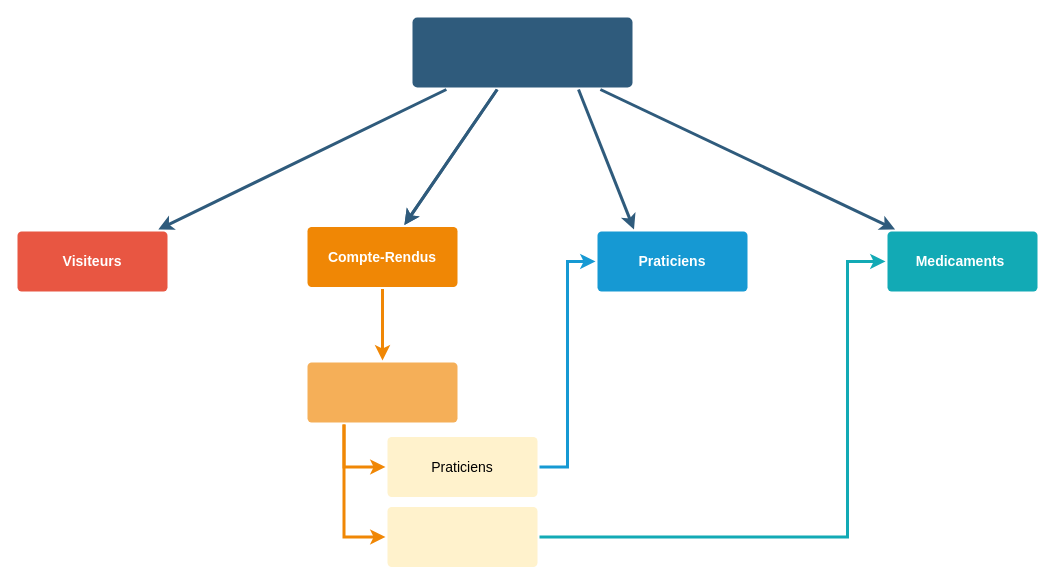
Image size: 1054x584. Some labels were removed from this diagram. The box of each missing label's shape, as (x1, y1, x2, y2) in pixels:
Identification GSB: (412, 17, 632, 87)
Offre d'échantillon: (387, 506, 537, 566)
Rapport de Visites: (307, 362, 457, 422)
